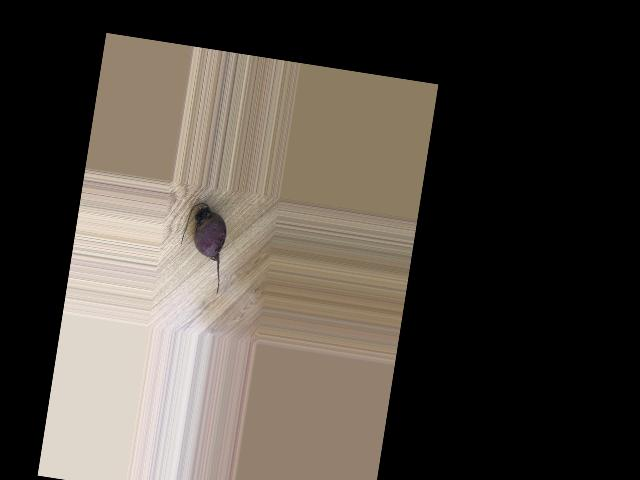beet: (174, 201, 231, 295)
